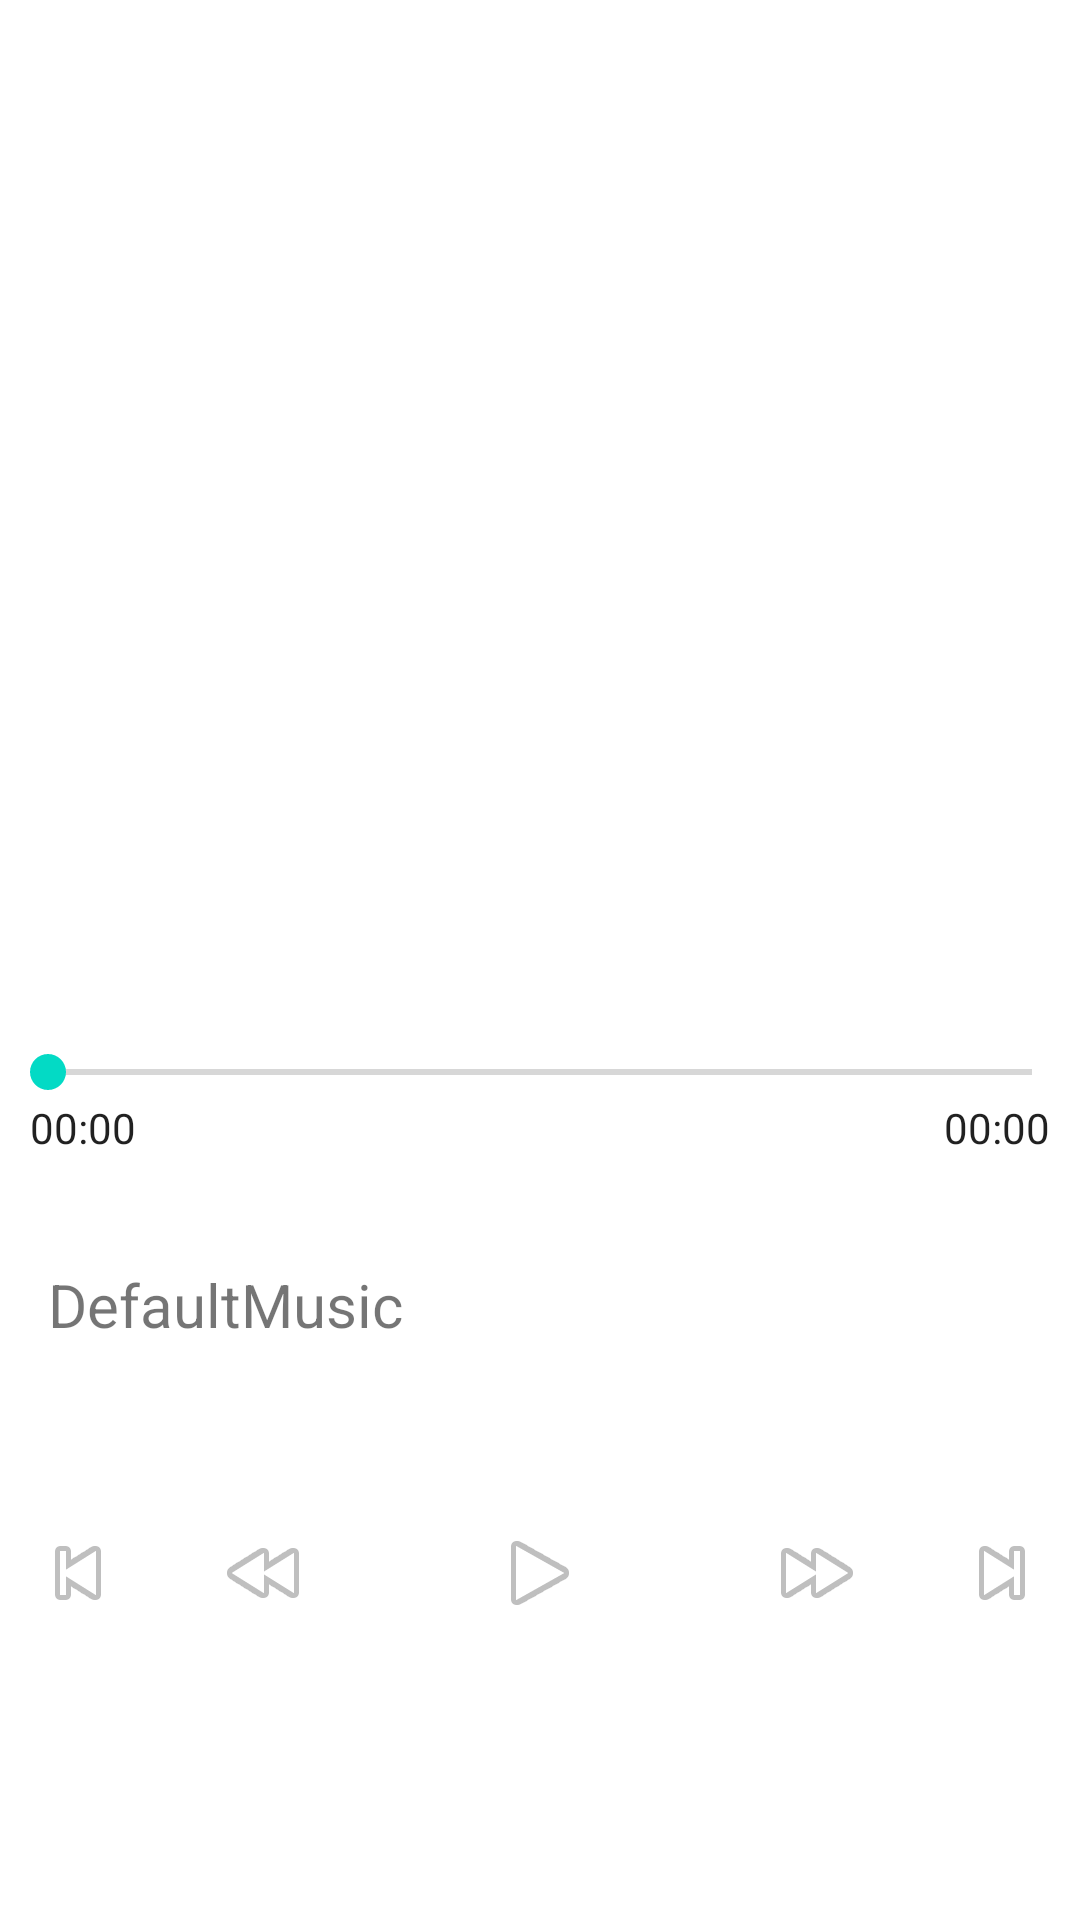

Named icons in this screenshot (1080*1920) and their bounding boxes, (x1, y1, x2, y2):
next: (979, 1546, 1025, 1600)
play: (511, 1541, 569, 1605)
previous: (55, 1546, 101, 1600)
rew: (227, 1548, 299, 1598)
